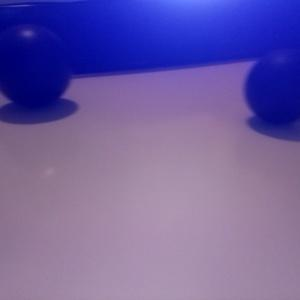dead_ball: (1, 14, 75, 103), (244, 50, 300, 122)
